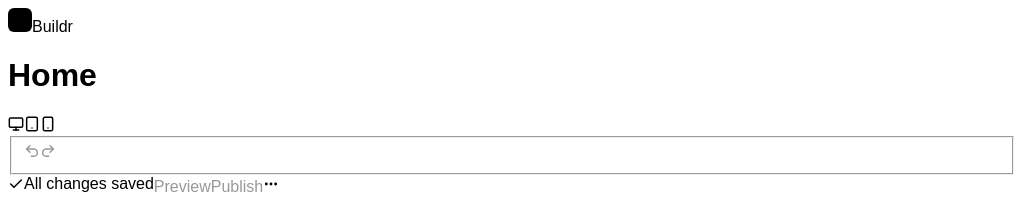
Test: Toolbar › names the buttons without the shortcuts, which appear in the tooltips
The image size is (1024, 209).
Focus the button named "Undo": (32, 152) [24,144,40,160]
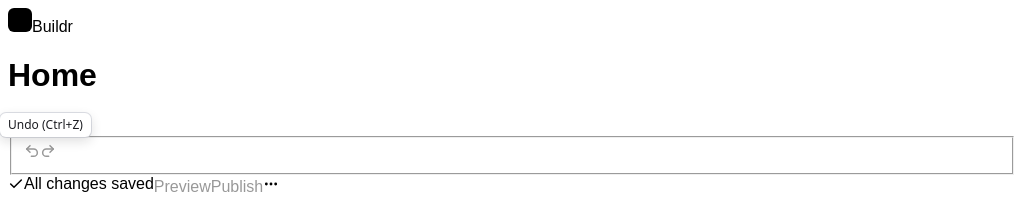
Expected: the tooltip "Undo (Ctrl+Z)" is shown, [0,113,91,137]
